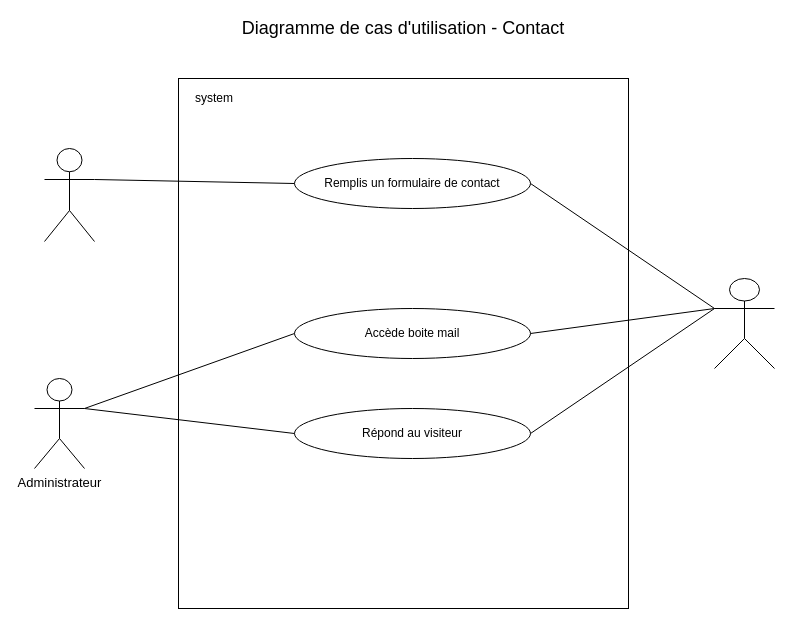
The diagram is 801 pixels wide and 626 high, and some of its shapes have lost their labels. Each missing label, with the centre of its shape:
"<<systeme>> MAIL" belongs at (744,323).
"Visiteur" belongs at (69,195).
